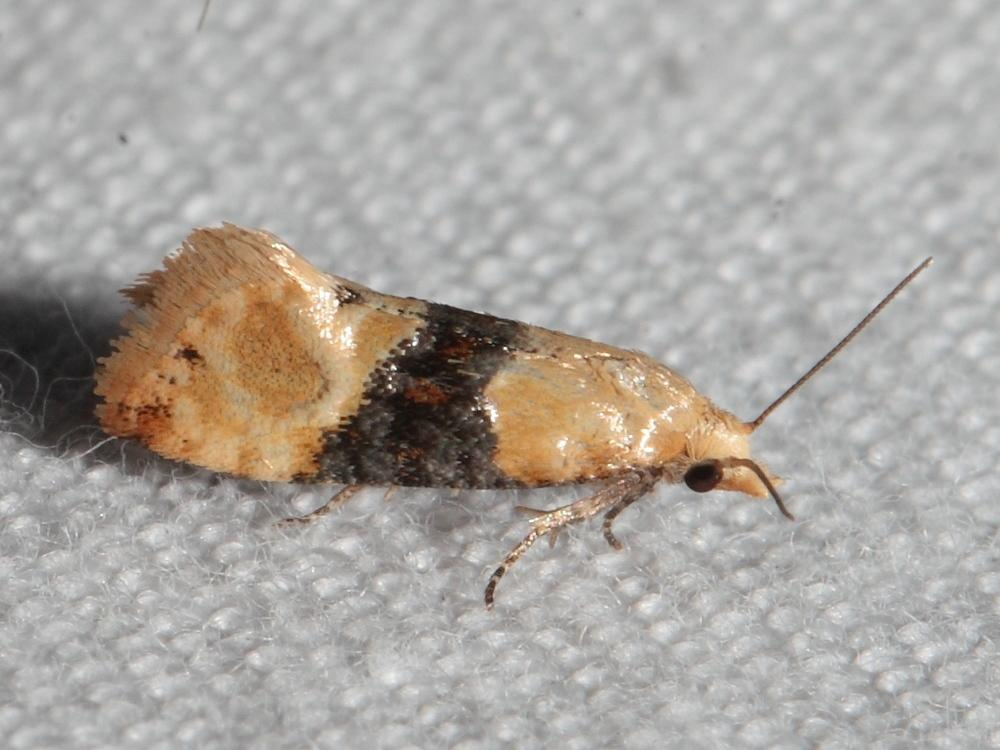Eupoecilia Ambiguella: (88, 218, 935, 612)
